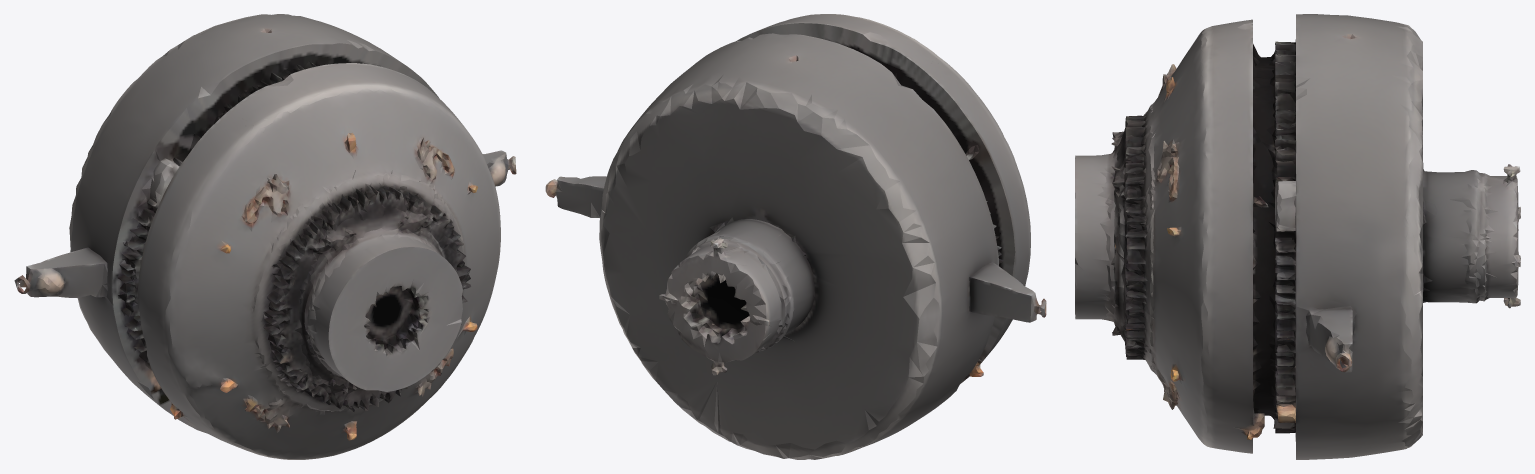
File: phantom_engine_aux.glb
3 renders of one model, left to right at view 1: azimuth 30°, elevation 25°; view 2: azimuth 150°, elevation 25°; view 3: azimuth 270°, elevation 25°, orthographic. The views are drawn at different scales.
Parts seen in each view (by area): view 1: phantom_engine_aux; view 2: phantom_engine_aux; view 3: phantom_engine_aux.
Boxes of the visible parts, box(x1,y1,x2,y2) form: phantom_engine_aux: box(14, 14, 516, 459); phantom_engine_aux: box(545, 14, 1046, 459); phantom_engine_aux: box(1075, 14, 1520, 459).
Bounding box in the file's own units: 1.89 × 1.4 × 1.4.
Materials: 1 (1 with a texture image).
